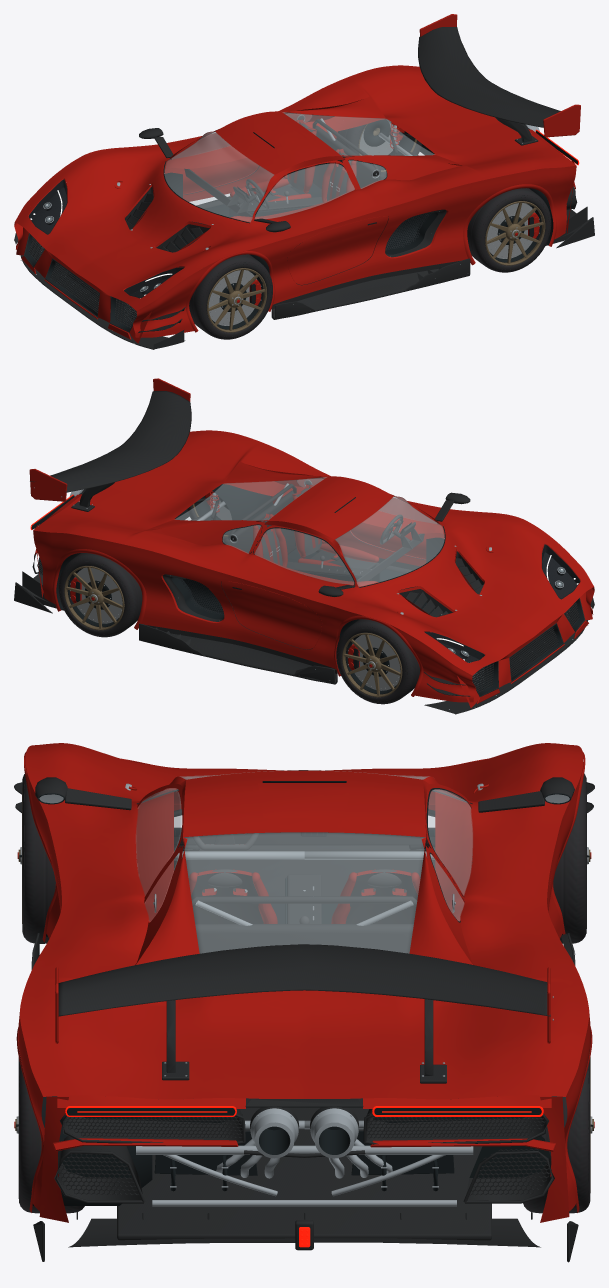
File: scarlet.glb
3 views of the same model, one above another, from view 1: azimuth 30°, elevation 25°; view 2: azimuth 150°, elevation 25°; view 3: azimuth 270°, elevation 25° (orthographic). The views are drawn at different scales.
Parts seen in each view (by area): view 1: object 1, object 16, RL_Sculpted_Grooved_Tire, FL_Sculpted_Grooved_Tire, object 29, object 35, RL_Vented_Rotor_96_True_Drilled_Bores, FL_Vented_Rotor_96_True_Drilled_Bores, FL_Ten_Substantial_Straight_Spokes, RL_Ten_Substantial_Straight_Spokes, object 19, RR_Rotor_Carrier (+1 smaller); view 2: object 1, object 16, RR_Sculpted_Grooved_Tire, FR_Sculpted_Grooved_Tire, object 29, object 35, RR_Vented_Rotor_96_True_Drilled_Bores, FR_Vented_Rotor_96_True_Drilled_Bores, FR_Ten_Substantial_Straight_Spokes, RR_Ten_Substantial_Straight_Spokes, object 19; view 3: object 1, object 16, FL_Sculpted_Grooved_Tire, FR_Sculpted_Grooved_Tire, RR_Sculpted_Grooved_Tire, RL_Sculpted_Grooved_Tire, object 43, object 35, HALF_SHAFT_FL, HALF_SHAFT_FR.
Boxes of the visible parts, <box> form: object 1: <box>14,14,594,349</box>; object 16: <box>30,112,434,298</box>; RL_Sculpted_Grooved_Tire: <box>467,188,551,272</box>; FL_Sculpted_Grooved_Tire: <box>189,254,272,339</box>; object 29: <box>29,180,183,297</box>; object 35: <box>230,119,356,202</box>; RL_Vented_Rotor_96_True_Drilled_Bores: <box>487,203,534,258</box>; FL_Vented_Rotor_96_True_Drilled_Bores: <box>208,270,256,325</box>; FL_Ten_Substantial_Straight_Spokes: <box>208,270,265,330</box>; RL_Ten_Substantial_Straight_Spokes: <box>487,203,543,263</box>; object 19: <box>269,163,430,249</box>; RR_Rotor_Carrier: <box>363,119,390,146</box>; object 1: <box>14,378,594,714</box>; object 16: <box>174,477,578,660</box>; RR_Sculpted_Grooved_Tire: <box>58,553,142,637</box>; FR_Sculpted_Grooved_Tire: <box>336,619,419,704</box>; object 29: <box>425,544,579,662</box>; object 35: <box>253,484,379,566</box>; RR_Vented_Rotor_96_True_Drilled_Bores: <box>74,567,122,623</box>; FR_Vented_Rotor_96_True_Drilled_Bores: <box>352,634,400,690</box>; FR_Ten_Substantial_Straight_Spokes: <box>343,634,400,695</box>; RR_Ten_Substantial_Straight_Spokes: <box>66,567,122,628</box>; object 19: <box>181,528,337,614</box>; object 1: <box>14,743,594,1262</box>; object 16: <box>136,770,472,953</box>; FL_Sculpted_Grooved_Tire: <box>22,774,55,943</box>; FR_Sculpted_Grooved_Tire: <box>553,774,586,943</box>; RR_Sculpted_Grooved_Tire: <box>523,1052,590,1213</box>; RL_Sculpted_Grooved_Tire: <box>18,1051,84,1213</box>; object 43: <box>65,844,543,1247</box>; object 35: <box>188,869,420,923</box>; HALF_SHAFT_FL: <box>174,851,304,860</box>; HALF_SHAFT_FR: <box>304,851,434,859</box>.
Size of the model in its own units: 4.54 by 1.36 by 2.48.
23 materials, 3 textured.
